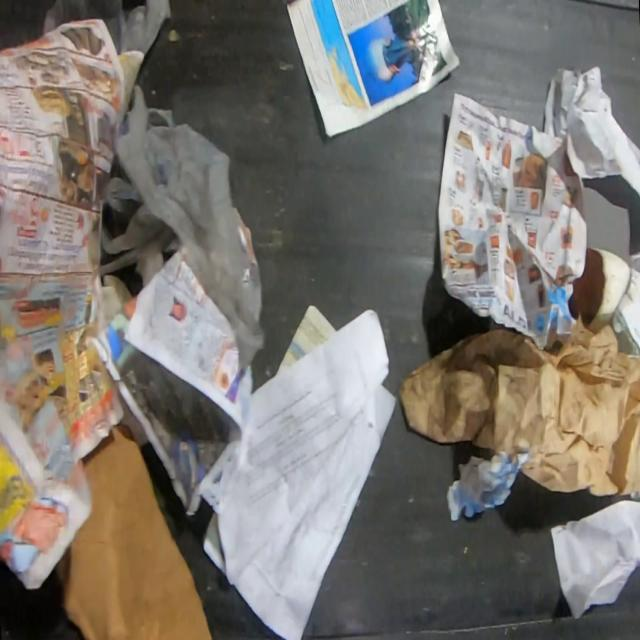cardboard: (58, 422, 211, 639), (573, 246, 632, 336)
soft_plastic: (100, 79, 266, 372), (43, 0, 170, 55)
